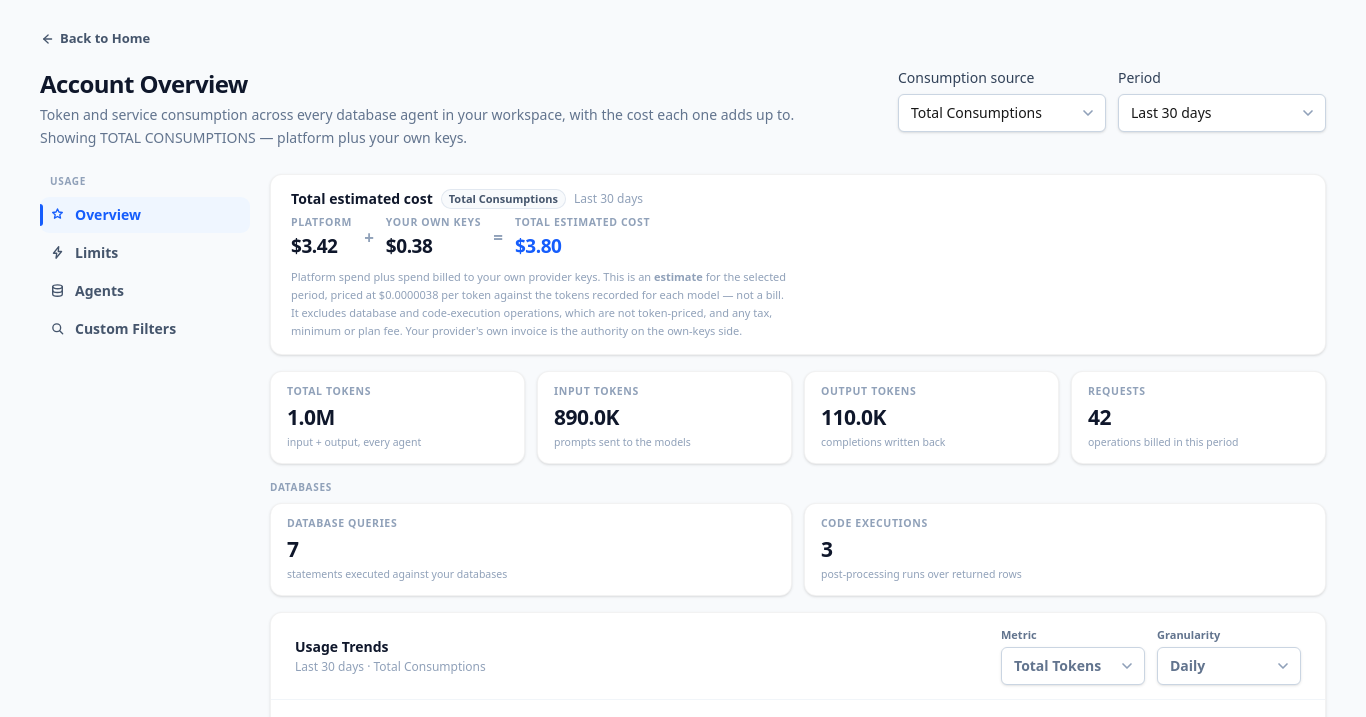
Test: Agents › joins the agent's name onto the id the aggregate returns
The width and height of the screenshot is (1366, 717).
Click the button "Agents". click: (145, 290)
box: [40, 272, 250, 308]
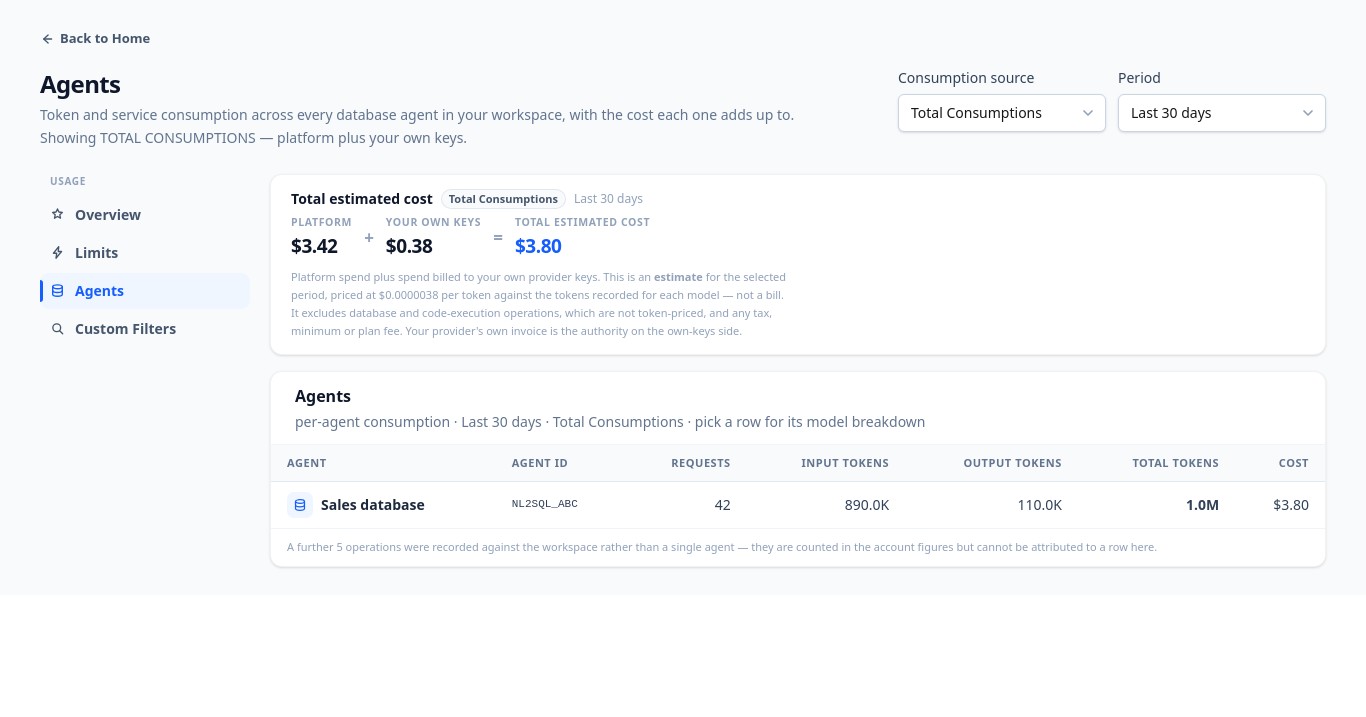
Now the text "NL2SQL_ABC" shows "Sales database", box [321, 495, 425, 514]
Now the text "NL2SQL_ABC" shows "42", box [715, 495, 731, 514]
Now the text "NL2SQL_ABC" shows "1.0M", box [1186, 495, 1219, 514]
